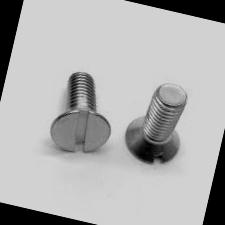screw: (44, 103, 114, 162)
